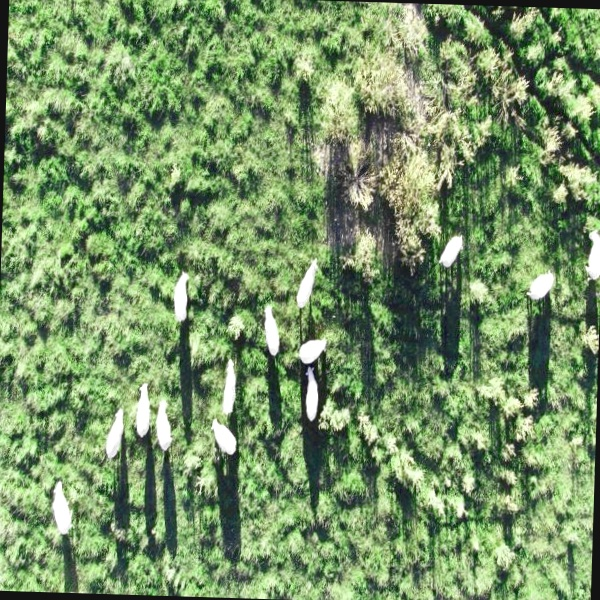sheep: (47, 471, 80, 542), (152, 397, 187, 463), (295, 358, 326, 430), (95, 396, 127, 461), (129, 369, 154, 448), (216, 350, 243, 422), (209, 404, 240, 466), (258, 299, 283, 369), (293, 258, 321, 319), (169, 271, 193, 340), (432, 222, 464, 273), (298, 328, 330, 379), (520, 258, 556, 301), (582, 222, 600, 276)
